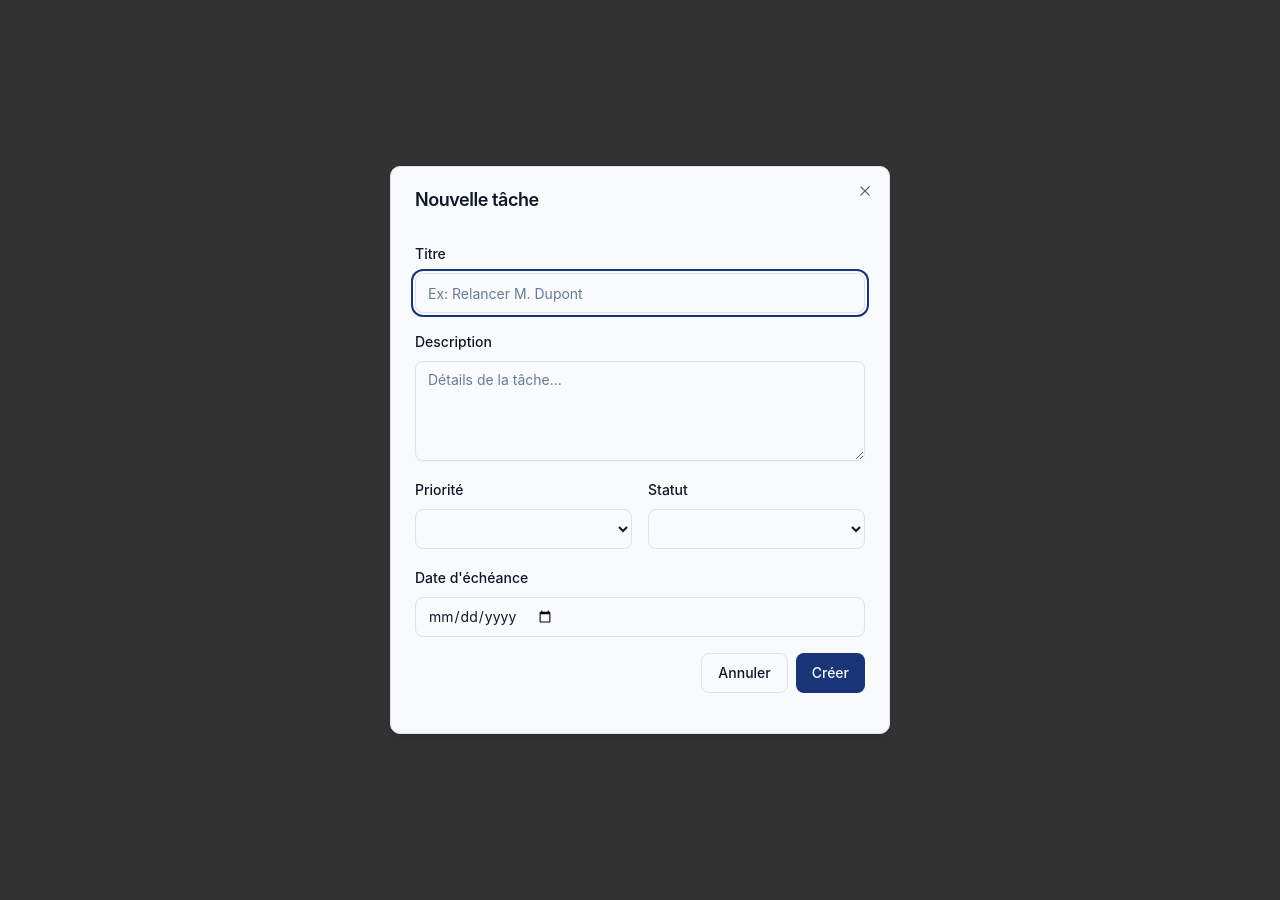
Test case: TaskDialog › affiche erreur si titre < 3 caractères
The width and height of the screenshot is (1280, 900).
Entrer seulement 2 caractères
Type "AB" into the field labelled "Titre". click: (640, 293)
box: [415,273,865,313]
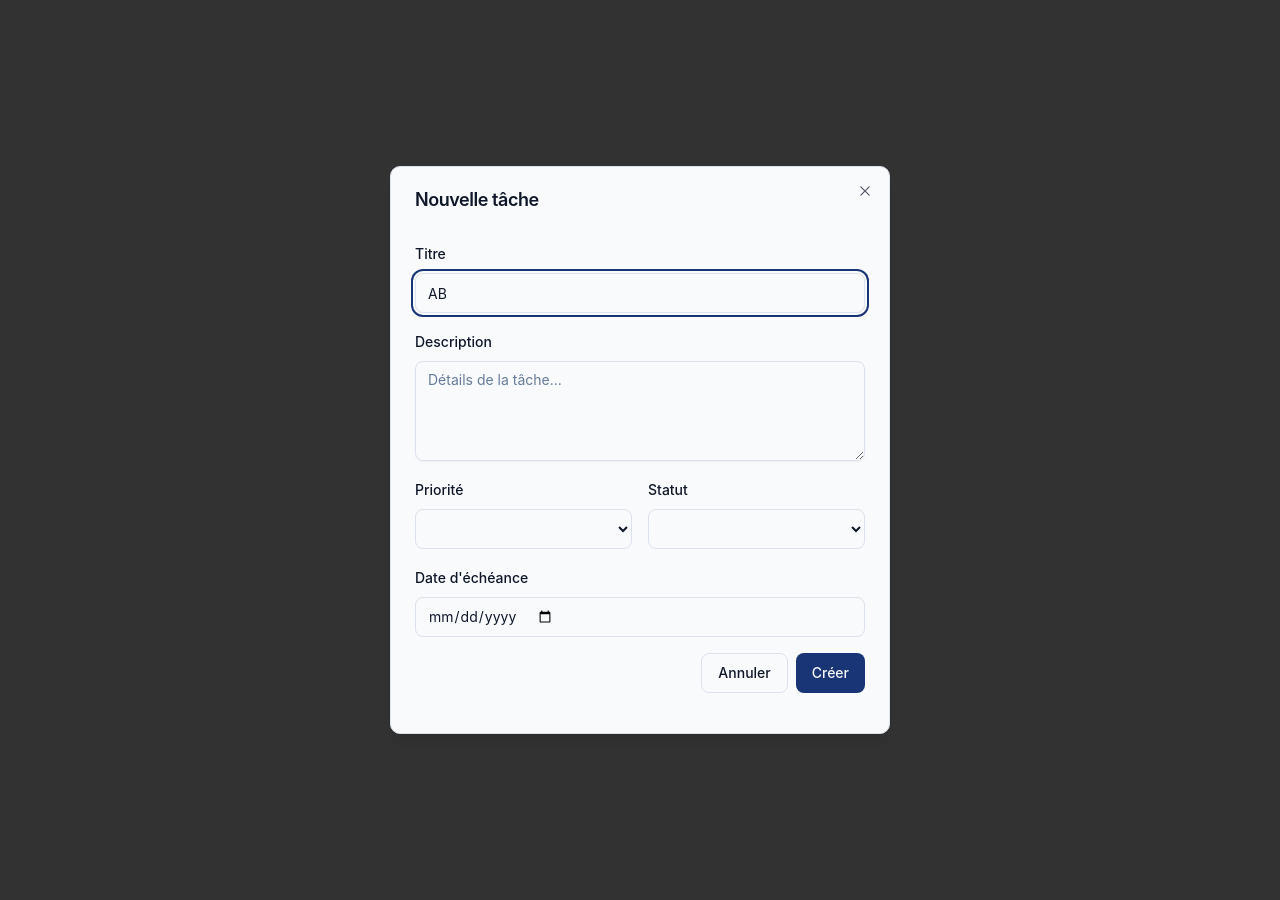
Click the button "Créer". click: (830, 673)
box: [796,653,865,693]
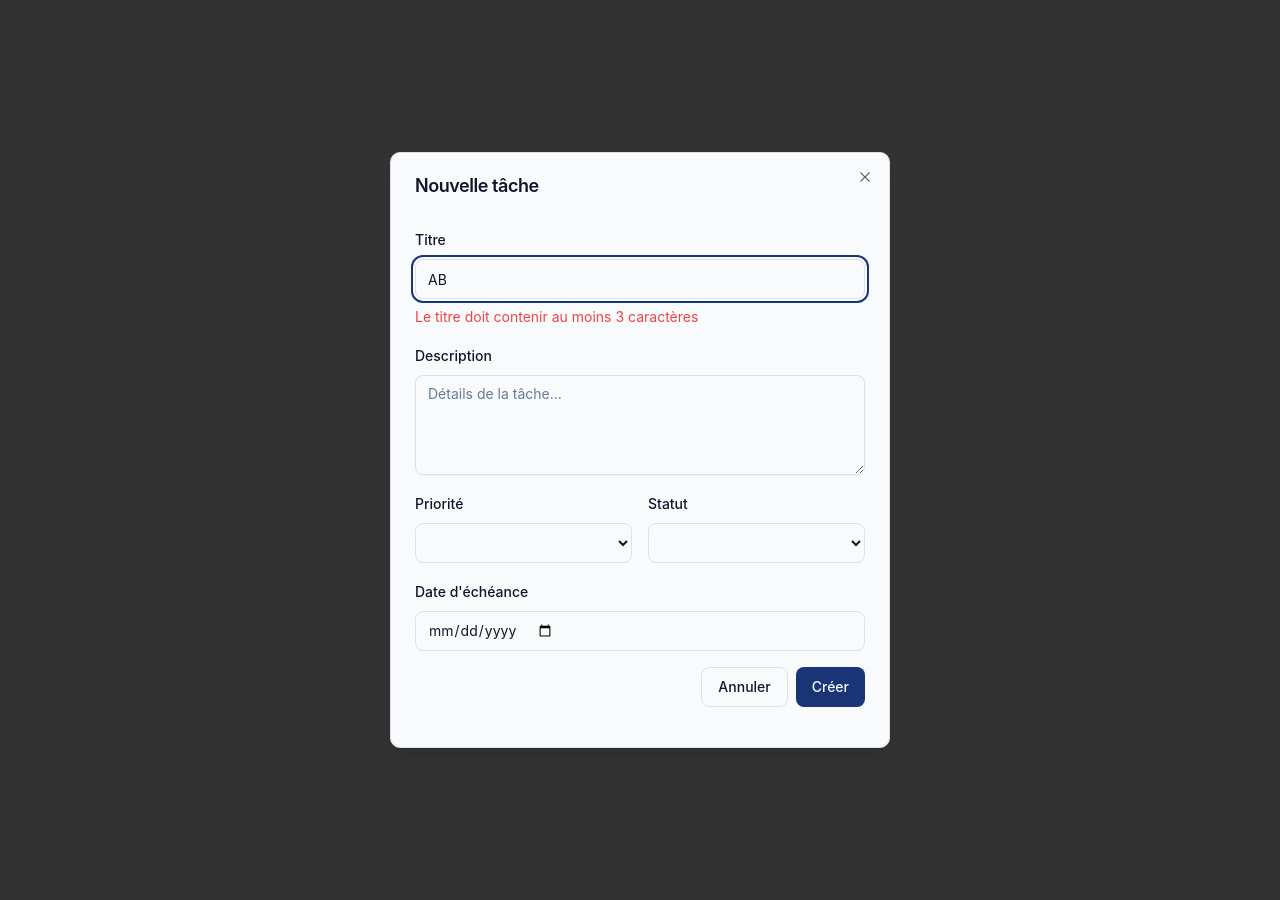
Expected: the text "Le titre doit contenir au moins 3 caractères" is shown, [415,308,698,325]
